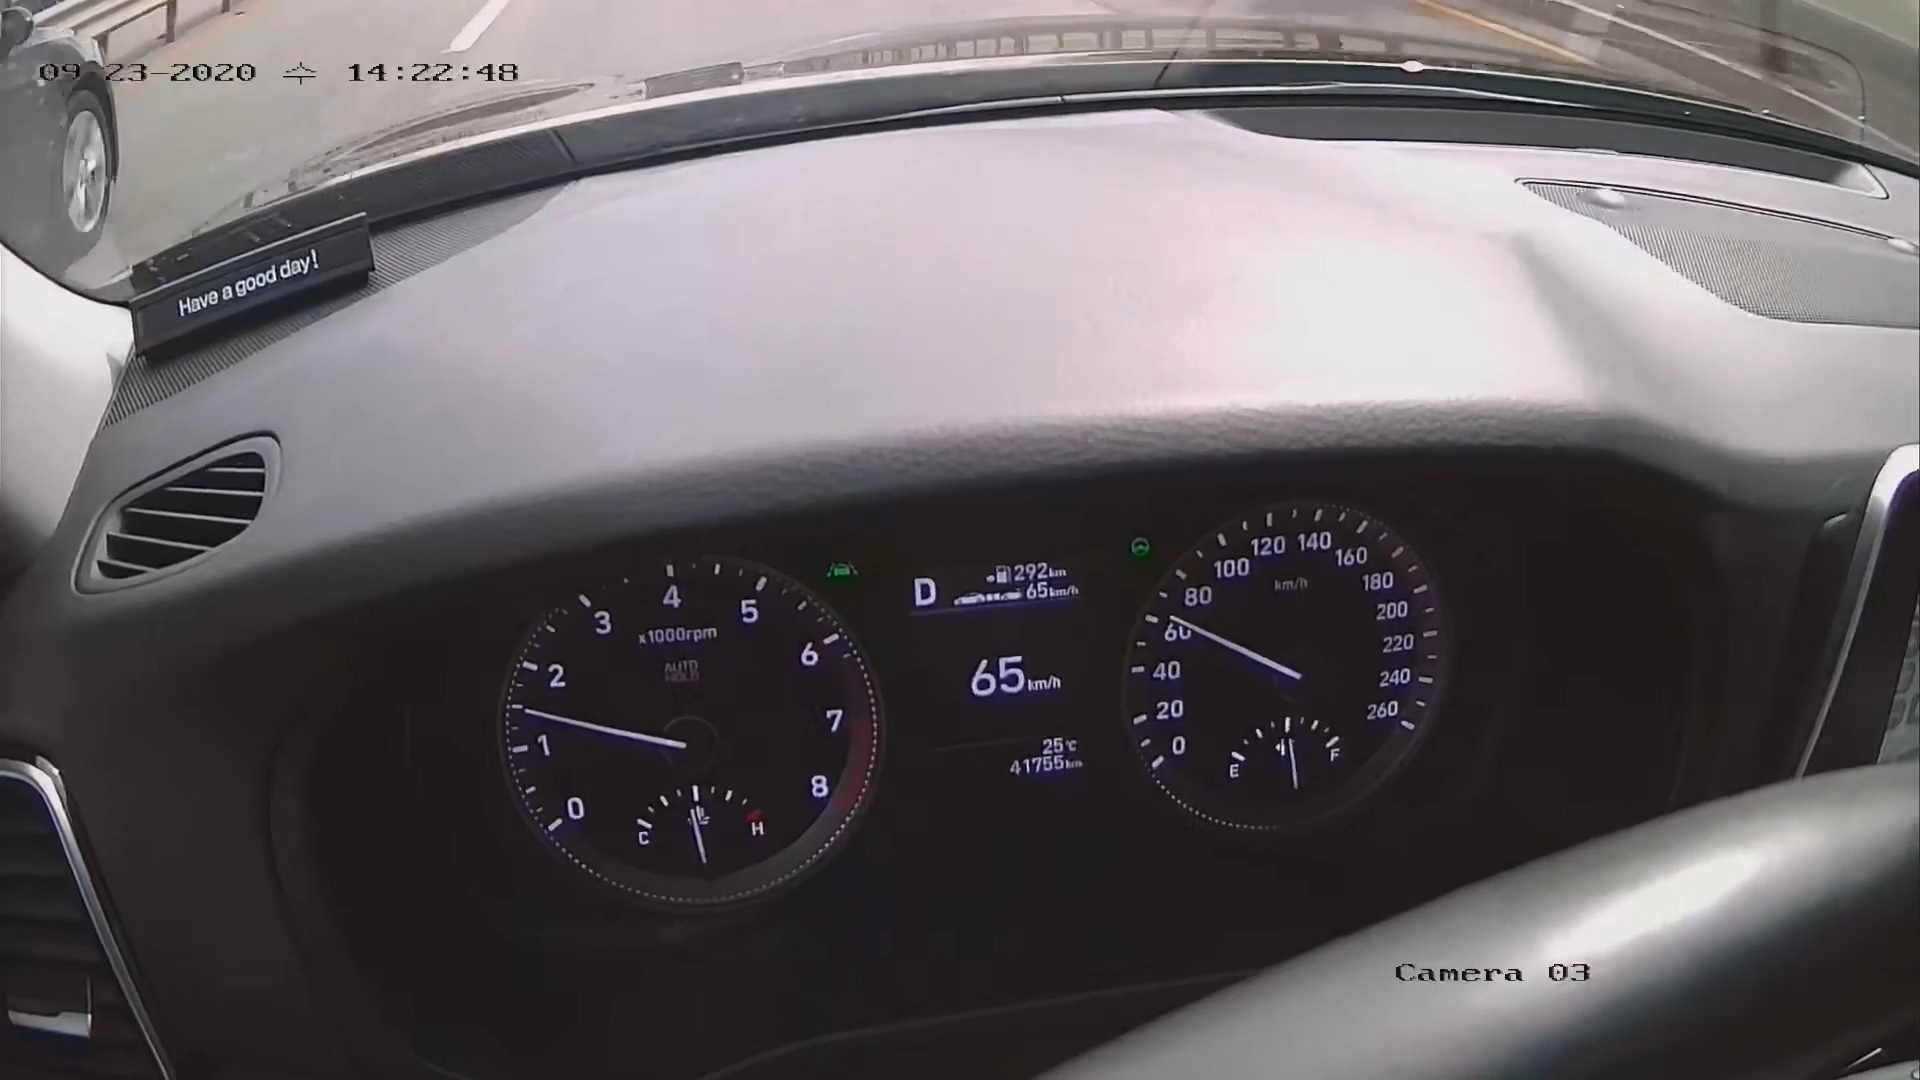auto: (1112, 526, 1168, 564)
date: (29, 53, 268, 88)
lane: (814, 545, 866, 589)
speed: (942, 650, 1027, 703)
time: (336, 54, 530, 90)
